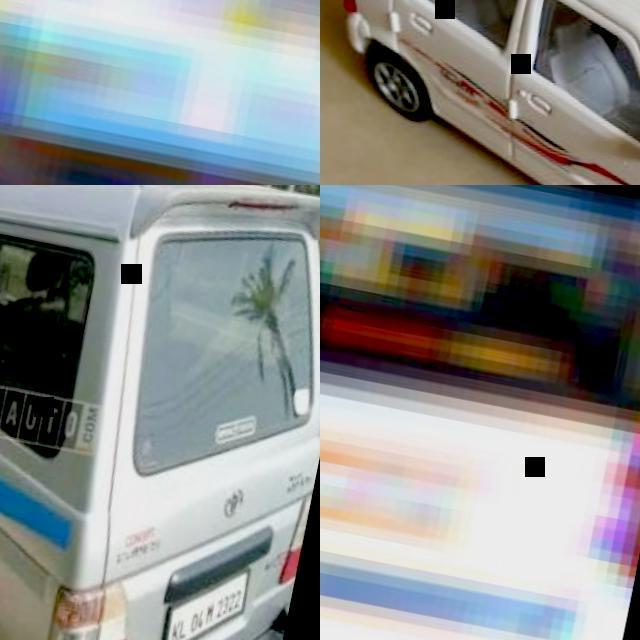car: (3, 182, 320, 635), (332, 5, 640, 184)
